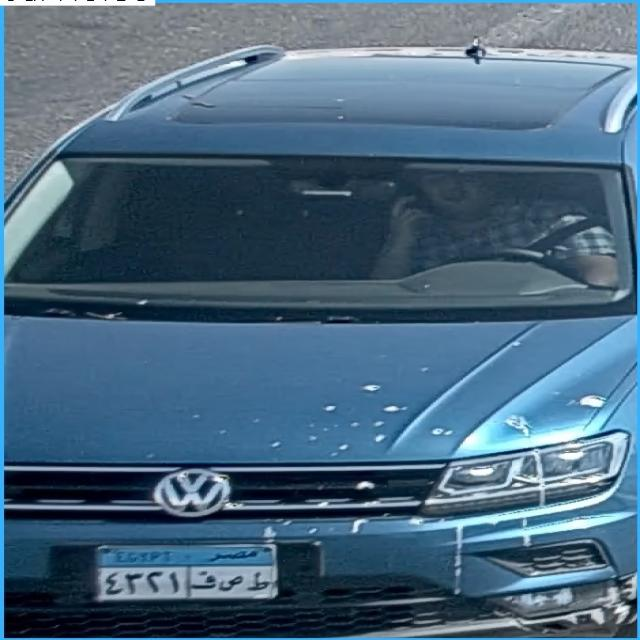windshield: (12, 152, 640, 308)
